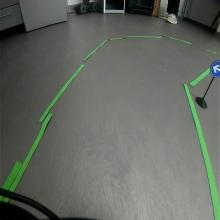left: (210, 59, 220, 77)
